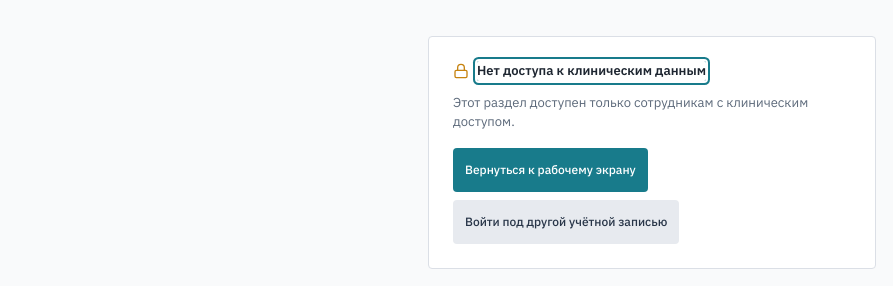
Test: RoleGuard · production self-hosted mode › clears the working identity but keeps the API address before another login
Click the button "Войти под другой учётной записью": [566, 222] box [453,200,679,244]
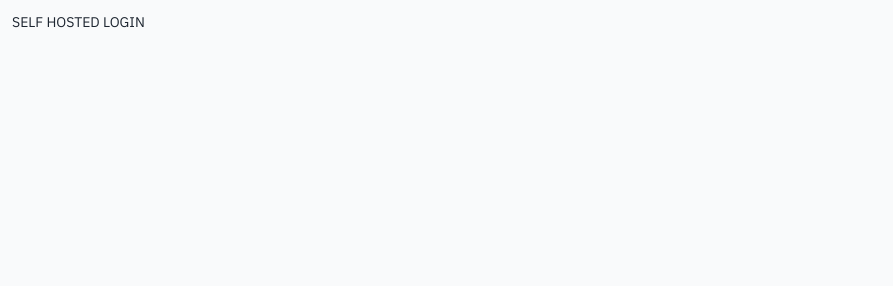
Check: the text "SELF HOSTED LOGIN" is shown, box [12,13,145,31]
